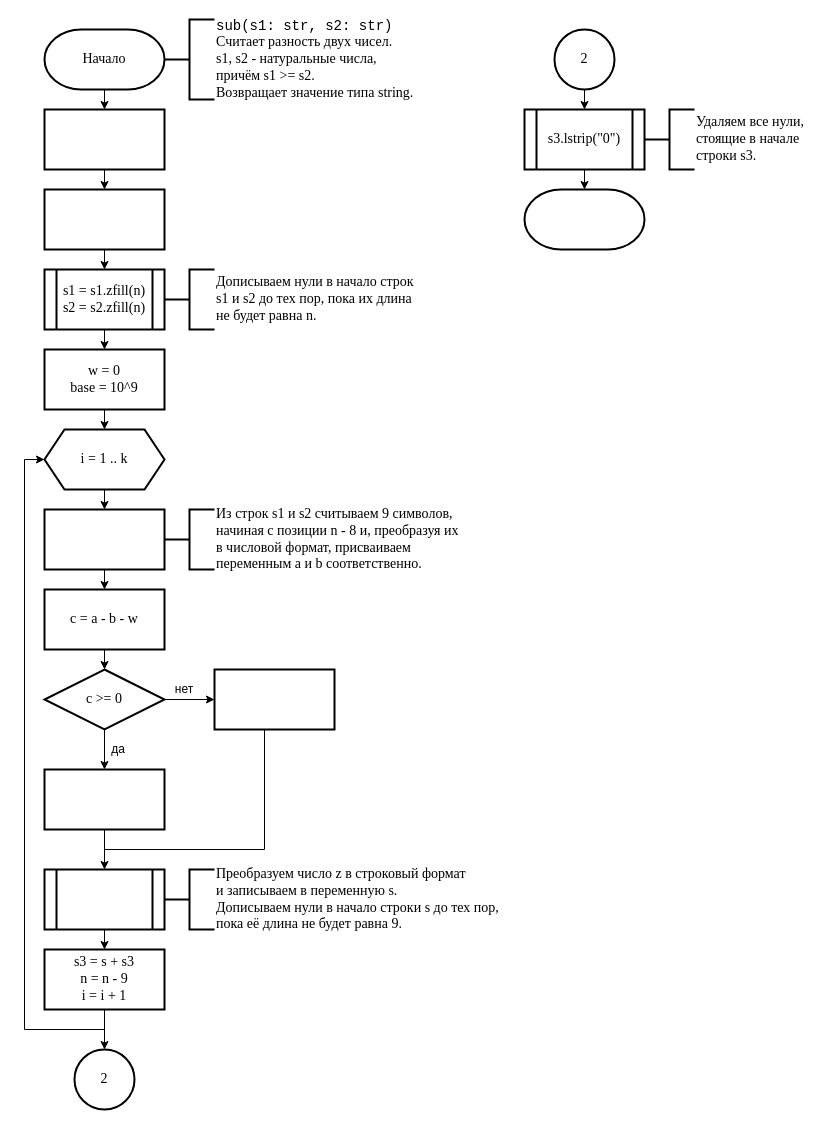
This 822x1127 diagram has some shape labels left out. The shapes that lost their labels are listed below. From the top down, each one's centre as x and y in pixels, then its label:
At point (104, 139): "l1 = len(s1) l2 = len(s2)".
At point (104, 219): "m = max(l1, l2) k = (m-1)/9 + 1 n = 9*k".
At point (584, 219): "Конец".
At point (104, 539): "a = int(s1[n-9:n]) b = int(s2[n-9:n])".
At point (274, 699): "z = c + base w = 1".
At point (104, 799): "z = c w = 0".
At point (104, 899): "s = str(z) s = s.zfill(9)".
